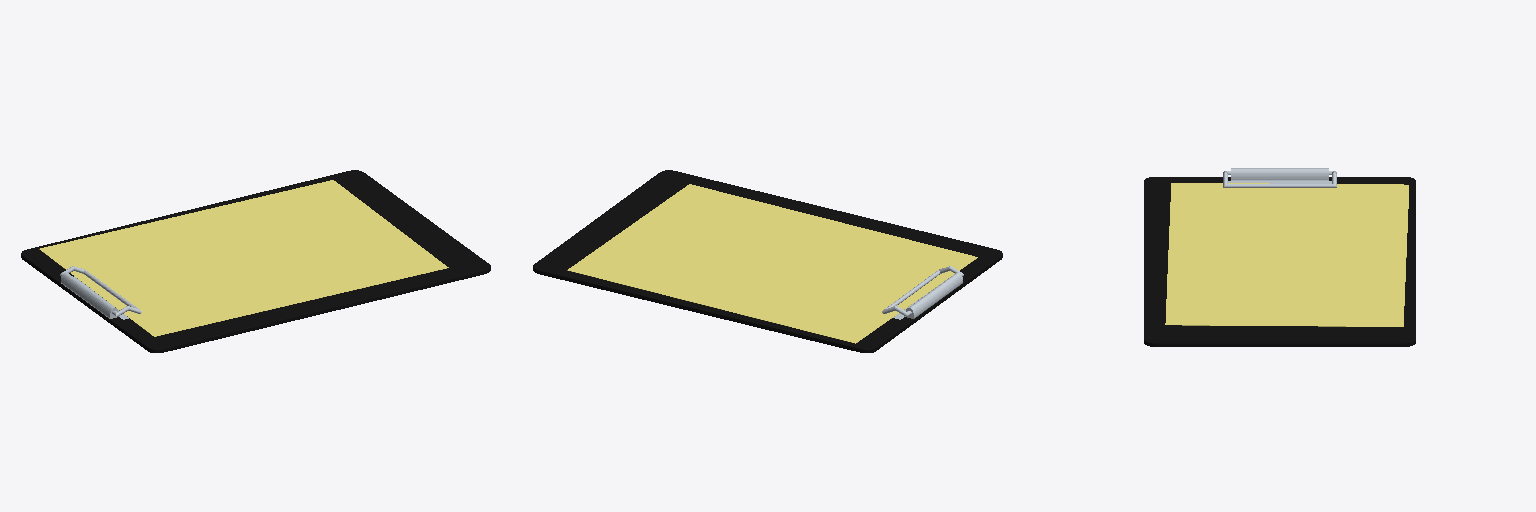
Rendered from prancheta.obj.
3 views of the same model, side by side, from view 1: azimuth 30°, elevation 25°; view 2: azimuth 150°, elevation 25°; view 3: azimuth 270°, elevation 25° (orthographic).
Parts seen in each view (by area): view 1: Mesh5 Group4 prancheta1 Model, Mesh4 Group3 prancheta1 Model, Mesh3 Group2 prancheta1 Model; view 2: Mesh5 Group4 prancheta1 Model, Mesh4 Group3 prancheta1 Model, Mesh3 Group2 prancheta1 Model; view 3: Mesh5 Group4 prancheta1 Model, Mesh4 Group3 prancheta1 Model, Mesh3 Group2 prancheta1 Model, Mesh2 Group1 prancheta1 Model.
Part boxes in pixels (left/top/right/bottom): Mesh5 Group4 prancheta1 Model: left=39, top=180, right=448, bottom=336; Mesh4 Group3 prancheta1 Model: left=21, top=170, right=490, bottom=352; Mesh3 Group2 prancheta1 Model: left=61, top=272, right=128, bottom=319; Mesh5 Group4 prancheta1 Model: left=567, top=184, right=977, bottom=343; Mesh4 Group3 prancheta1 Model: left=533, top=170, right=1002, bottom=352; Mesh3 Group2 prancheta1 Model: left=893, top=272, right=962, bottom=319; Mesh5 Group4 prancheta1 Model: left=1165, top=183, right=1408, bottom=326; Mesh4 Group3 prancheta1 Model: left=1144, top=177, right=1415, bottom=346; Mesh3 Group2 prancheta1 Model: left=1228, top=168, right=1331, bottom=183; Mesh2 Group1 prancheta1 Model: left=1223, top=171, right=1336, bottom=187.
Bounding box in the file's own units: 34.8 × 1.54 × 24.